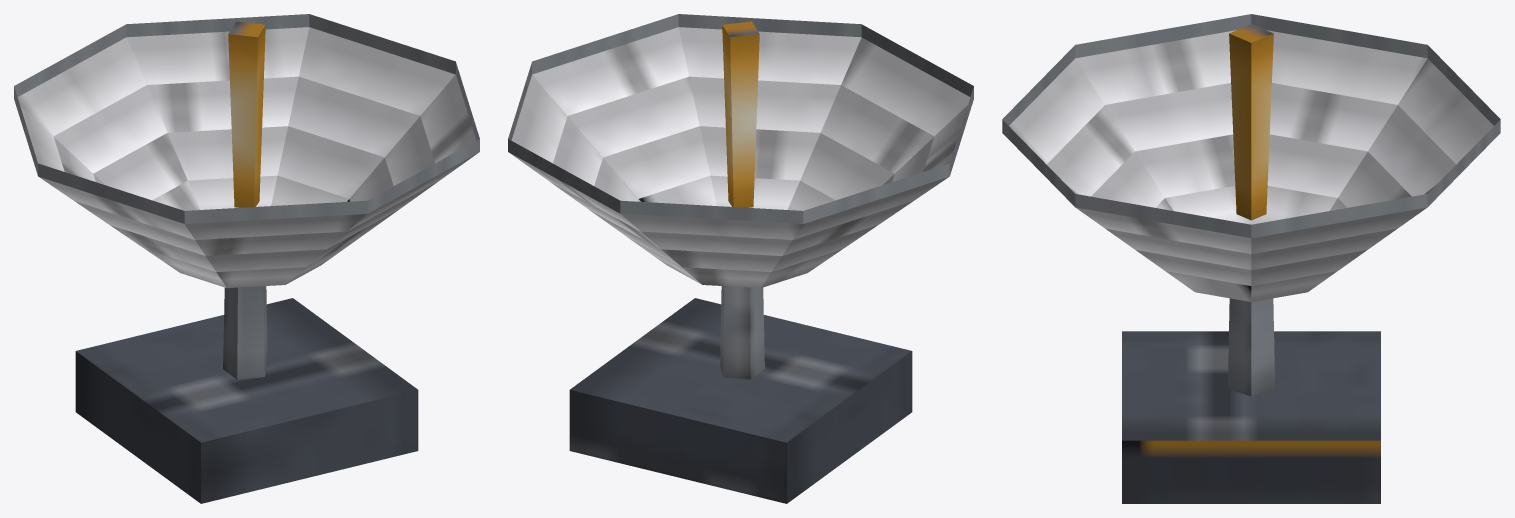
The model's file is ship_dish_antenna.obj.
3 renders of one model, left to right at view 1: azimuth 30°, elevation 25°; view 2: azimuth 150°, elevation 25°; view 3: azimuth 270°, elevation 25°, orthographic. The views are drawn at different scales.
Parts seen in each view (by area): view 1: dish, base, rim, feed, post; view 2: dish, base, rim, feed, post; view 3: dish, base, rim, feed, post.
Boxes of the visible parts, bbox=[...] form: dish: bbox=[17, 27, 477, 288]; base: bbox=[75, 298, 418, 503]; rim: bbox=[14, 14, 479, 223]; feed: bbox=[228, 21, 265, 207]; post: bbox=[223, 286, 267, 379]; dish: bbox=[510, 27, 970, 288]; base: bbox=[569, 298, 912, 503]; rim: bbox=[508, 14, 973, 223]; feed: bbox=[722, 21, 759, 207]; post: bbox=[720, 286, 764, 379]; dish: bbox=[1009, 30, 1493, 301]; base: bbox=[1122, 331, 1380, 503]; rim: bbox=[1002, 14, 1500, 238]; feed: bbox=[1229, 24, 1273, 220]; post: bbox=[1227, 298, 1275, 396].
Bounding box in the file's own units: 1 × 0.92 × 1.
Materials: 5 (5 with a texture image).
